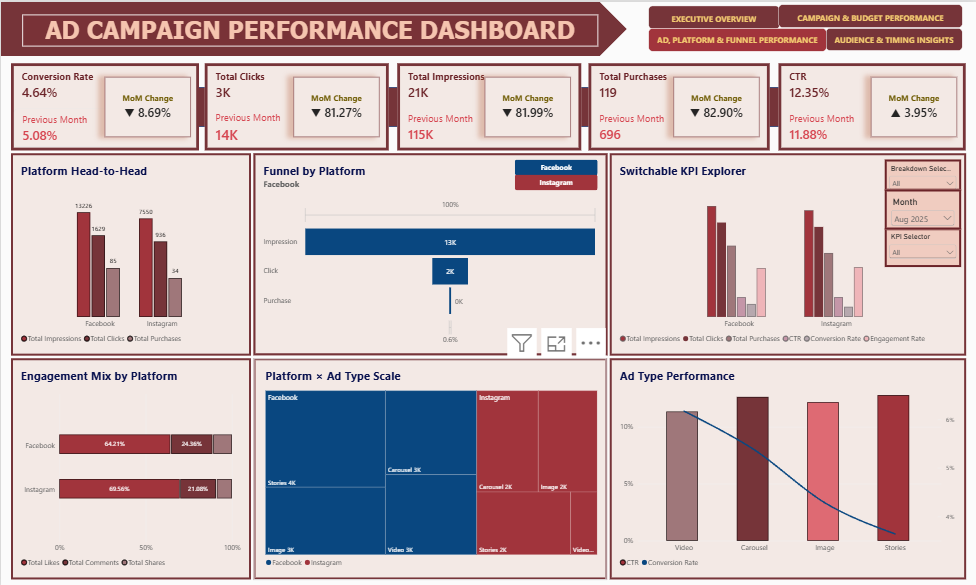

This screenshot's page, from the dashboard's own definition file:
{"tool":"powerbi","page":{"name":"Ad, Platform & Funnel Performance","canvas":[1950,1170],"ordinal":2},"visuals":[{"type":"funnel","title":"Funnel by Platform","fields":{"Category":["AdEvents.event_type"],"Y":["Measures Table.Total Events"]},"box":[506,302,708,404],"z":0},{"type":"shape","box":[1424,170,300,80],"z":1000},{"type":"shape","box":[1044,170,300,80],"z":2000},{"type":"shape","box":[642,170,300,80],"z":3000},{"type":"shape","box":[246,170,300,80],"z":4000},{"type":"shape","box":[0,0,1252,108],"z":5000},{"type":"cardVisual","fields":{"Data":["Measures Table.Total Impressions","Measures Table.Total Impressions PM"]},"box":[792,122,368,174],"z":6000},{"type":"cardVisual","fields":{"Data":["Measures Table.Total Clicks","Measures Table.Total Clicks PM"]},"box":[408,122,368,174],"z":7000},{"type":"cardVisual","fields":{"Data":["Measures Table.CTR","Measures Table.CTR PM"]},"box":[1556,122,374,174],"z":8000},{"type":"cardVisual","fields":{"Data":["Measures Table.Conversion Rate","Measures Table.Conversion Rate PM"]},"box":[20,122,376,174],"z":9000},{"type":"cardVisual","fields":{"Data":["Measures Table.Total Purchases","Measures Table.Total Purchases PM"]},"box":[1174,122,362,174],"z":10000},{"type":"clusteredColumnChart","title":"Platform Head-to-Head","fields":{"Category":["Ads.ad_platform"],"Y":["Measures Table.Total Impressions","Measures Table.Total Clicks","Measures Table.Total Purchases"]},"box":[20,302.5,480,405],"z":11000},{"type":"lineClusteredColumnComboChart","title":"Ad Type Performance","fields":{"Category":["Ads.ad_type"],"Y":["Measures Table.CTR"],"Y2":["Measures Table.Conversion Rate"]},"box":[1217.5,712.5,712.5,442.5],"z":12000},{"type":"funnel","title":"Funnel by Platform ","fields":{"Category":["AdEvents.event_type"],"Y":["Measures Table.Total Events"]},"box":[506,302,708,404],"z":13000},{"type":"treemap","title":"Platform × Ad Type Scale","fields":{"Details":["Ads.ad_type"],"Group":["Ads.ad_platform"],"Values":["Measures Table.Total Impressions"]},"box":[505,712.5,707.5,442.5],"z":14000},{"type":"hundredPercentStackedBarChart","title":"Engagement Mix by Platform","fields":{"Category":["Ads.ad_platform"],"Y":["Measures Table.Total Likes","Measures Table.Total Comments","Measures Table.Total Shares"]},"box":[20,712.5,480,442.5],"z":15000},{"type":"clusteredColumnChart","title":"Switchable KPI Explorer","fields":{"Category":["Ads.ad_platform","Ads.ad_type","Users.age_group","Users.country"],"Y":["Measures Table.Total Impressions","Measures Table.Total Clicks","Measures Table.Total Purchases","Measures Table.CTR","Measures Table.Conversion Rate","Measures Table.Engagement Rate"]},"box":[1217.5,302.5,712.5,405],"z":16000},{"type":"slicer","fields":{"Values":["KPI Selector.KPI Selector"]},"box":[1767.5,452.5,152.5,77.5],"z":17000},{"type":"slicer","fields":{"Values":["Breakdown Selector.Breakdown Selector"]},"box":[1767,314.5,152.5,62.5],"z":18000},{"type":"actionButton","title":"EXECUTIVE OVERVIEW","box":[1294,8,262,46],"z":19000},{"type":"actionButton","title":"CAMPAIGN & BUDGET PERFORMANCE","box":[1556,6,368,46],"z":20000},{"type":"actionButton","title":"AD, PLATFORM & FUNNEL PERFORMANCE","box":[1294,52,356,46],"z":21000},{"type":"actionButton","title":"AUDIENCE & TIMING INSIGHTS","box":[1650,52.5,272.5,45],"z":22000},{"type":"textbox","box":[42,26,1152,64],"z":23000},{"type":"slicer","fields":{"Values":["DateTable.Month"]},"box":[1767,374.5,152.5,80],"z":24000},{"type":"actionButton","title":"A","box":[1028,314,166,32],"z":25000},{"type":"actionButton","title":"A","box":[1028,346,166,32],"z":26000},{"type":"cardVisual","fields":{"Data":["Measures Table.Conversion Rate MoM Display"]},"box":[208,150,172,120],"z":27000},{"type":"cardVisual","fields":{"Data":["Measures Table.Total Clicks MoM Display"]},"box":[586,150,172,120],"z":28000},{"type":"cardVisual","fields":{"Data":["Measures Table.Total Impressions MoM Display"]},"box":[968,150,172,120],"z":29000},{"type":"cardVisual","fields":{"Data":["Measures Table.Total Purchases MoM Display"]},"box":[1346,150,172,120],"z":30000},{"type":"cardVisual","fields":{"Data":["Measures Table.CTR MoM Display"]},"box":[1740,150,172,120],"z":31000}]}

Visuals, with their boxes in screenshot pixels (x1, y1, x2, y2), scaled from the page's 1950x1170 canvas onto the 976x585 screenshot:
"Funnel by Platform" funnel: crop(253, 151, 608, 353)
shape: crop(713, 85, 863, 125)
shape: crop(523, 85, 673, 125)
shape: crop(321, 85, 471, 125)
shape: crop(123, 85, 273, 125)
shape: crop(0, 0, 627, 54)
cardVisual - Measures Table.Total Impressions x Measures Table.Total Impressions PM: crop(396, 61, 581, 148)
cardVisual - Measures Table.Total Clicks x Measures Table.Total Clicks PM: crop(204, 61, 388, 148)
cardVisual - Measures Table.CTR x Measures Table.CTR PM: crop(779, 61, 966, 148)
cardVisual - Measures Table.Conversion Rate x Measures Table.Conversion Rate PM: crop(10, 61, 198, 148)
cardVisual - Measures Table.Total Purchases x Measures Table.Total Purchases PM: crop(588, 61, 769, 148)
"Platform Head-to-Head" clusteredColumnChart: crop(10, 151, 250, 354)
"Ad Type Performance" lineClusteredColumnComboChart: crop(609, 356, 966, 578)
"Funnel by Platform " funnel: crop(253, 151, 608, 353)
"Platform × Ad Type Scale" treemap: crop(253, 356, 607, 578)
"Engagement Mix by Platform" hundredPercentStackedBarChart: crop(10, 356, 250, 578)
"Switchable KPI Explorer" clusteredColumnChart: crop(609, 151, 966, 354)
slicer - KPI Selector.KPI Selector: crop(885, 226, 961, 265)
slicer - Breakdown Selector.Breakdown Selector: crop(884, 157, 961, 188)
"EXECUTIVE OVERVIEW" actionButton: crop(648, 4, 779, 27)
"CAMPAIGN & BUDGET PERFORMANCE" actionButton: crop(779, 3, 963, 26)
"AD, PLATFORM & FUNNEL PERFORMANCE" actionButton: crop(648, 26, 826, 49)
"AUDIENCE & TIMING INSIGHTS" actionButton: crop(826, 26, 962, 49)
textbox: crop(21, 13, 598, 45)
slicer - DateTable.Month: crop(884, 187, 961, 227)
"A" actionButton: crop(515, 157, 598, 173)
"A" actionButton: crop(515, 173, 598, 189)
cardVisual - Measures Table.Conversion Rate MoM Display: crop(104, 75, 190, 135)
cardVisual - Measures Table.Total Clicks MoM Display: crop(293, 75, 379, 135)
cardVisual - Measures Table.Total Impressions MoM Display: crop(484, 75, 571, 135)
cardVisual - Measures Table.Total Purchases MoM Display: crop(674, 75, 760, 135)
cardVisual - Measures Table.CTR MoM Display: crop(871, 75, 957, 135)
